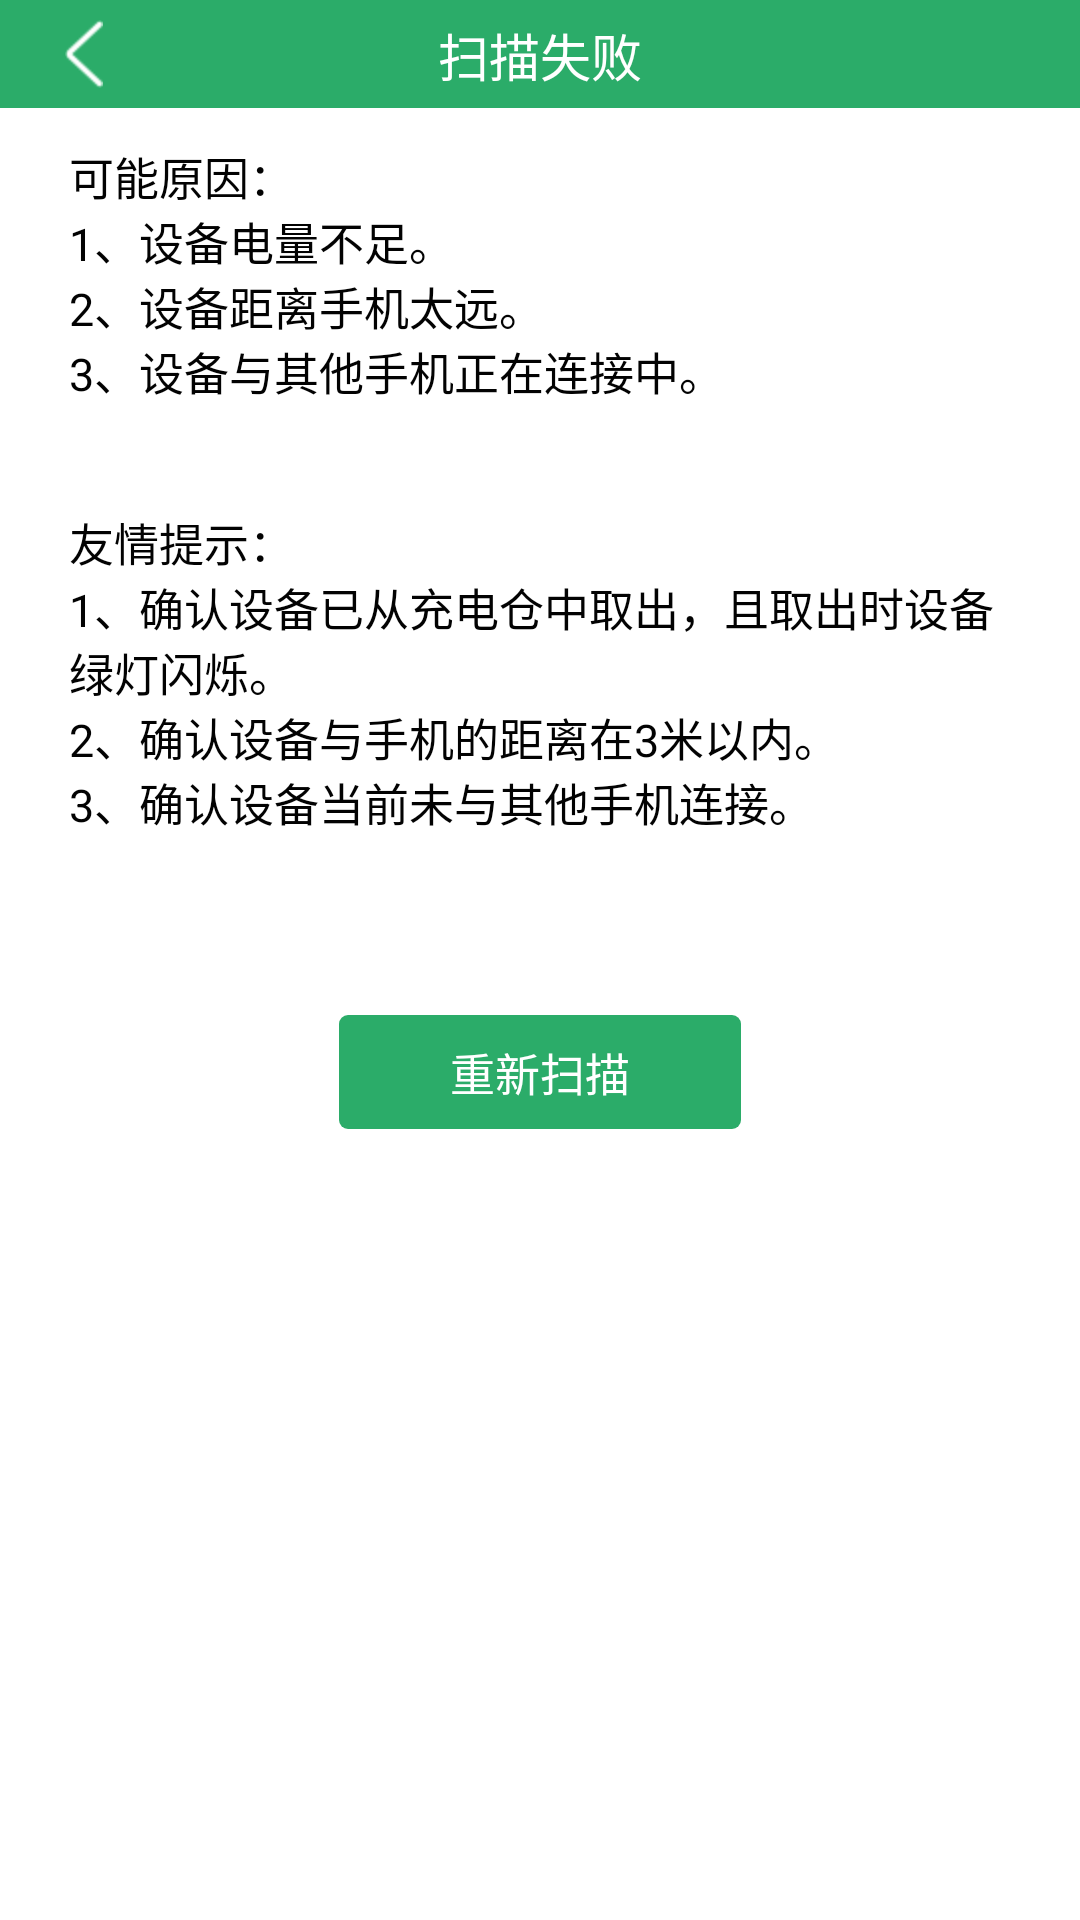

Where icons sit on this 1080px x 1920px app screen, as (x1, y1, x2, y2):
back: (65, 20, 103, 88)
